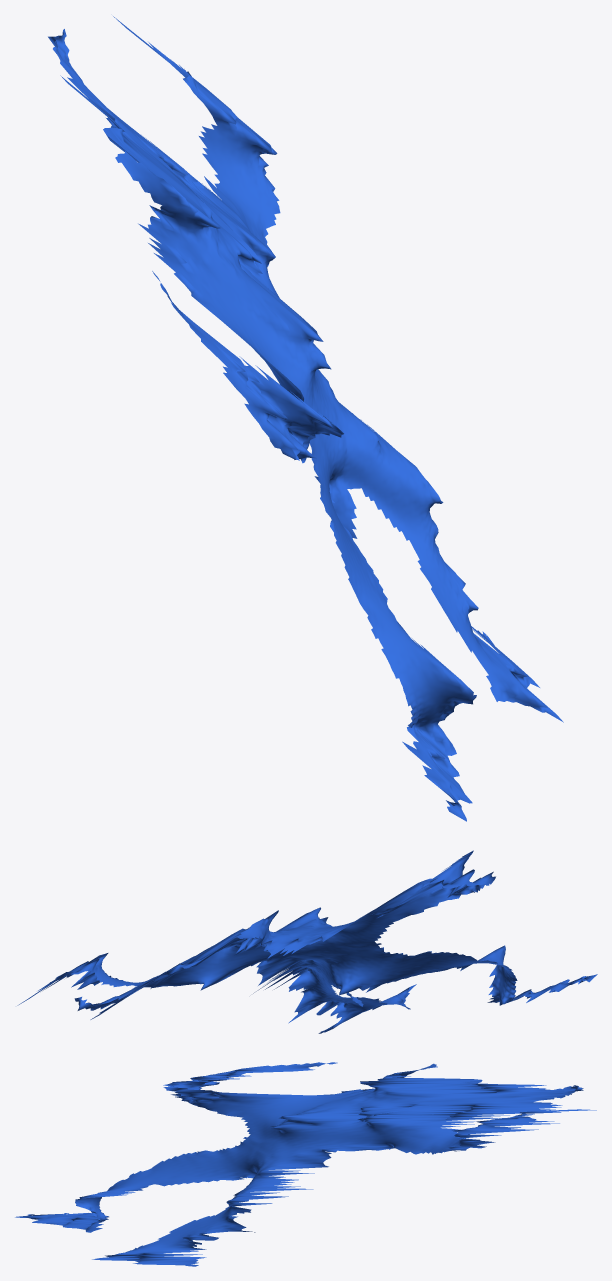
Rendered from armadillo_SFS.glb.
The picture shows the model from 3 angles, top to bottom: view 1: azimuth 30°, elevation 25°; view 2: azimuth 150°, elevation 25°; view 3: azimuth 270°, elevation 25°; orthographic projection. The views are drawn at different scales.
Visible parts, largest first — view 1: main-sfs-armadillo; view 2: main-sfs-armadillo; view 3: main-sfs-armadillo.
Part boxes in pixels (bbox=[...]): main-sfs-armadillo: bbox=[48, 16, 563, 821]; main-sfs-armadillo: bbox=[17, 850, 597, 1033]; main-sfs-armadillo: bbox=[15, 1062, 596, 1266].
Size of the model in its own units: 0.93 by 1.1 by 3.42.
